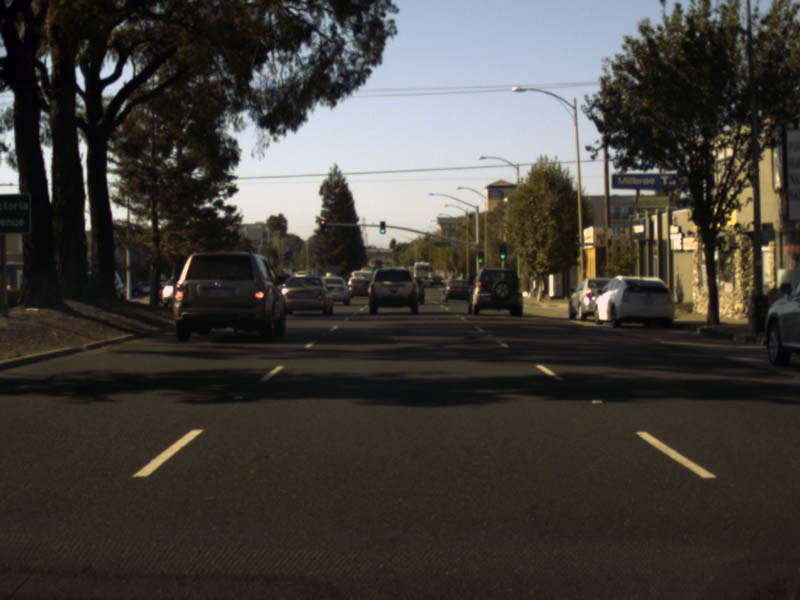Green: (499, 243, 506, 259), (477, 251, 483, 263), (379, 221, 385, 232)
Red: (319, 219, 325, 232)
